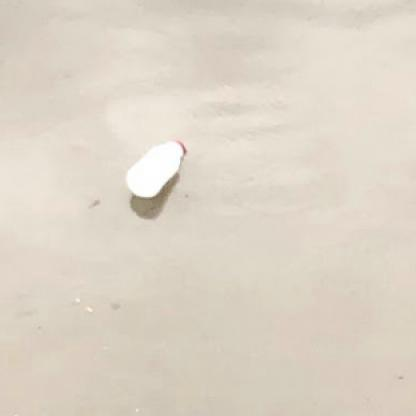Plastic: (126, 137, 186, 200)
